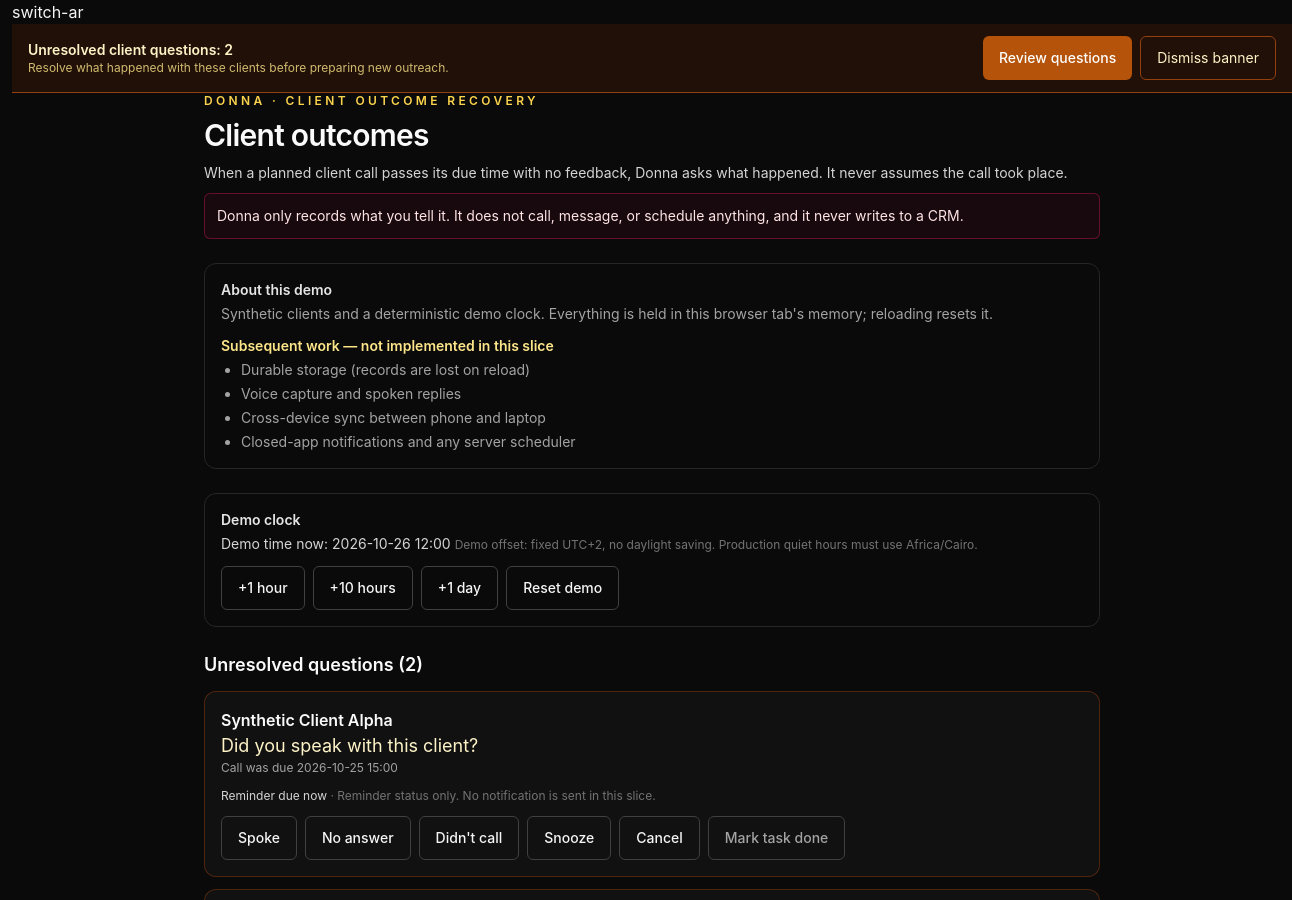
Test case: Donna inbox (English) › offers no appointment option when the client was not reached
Click the button "No answer" at (358,838), box [305,816,411,860]
(page scrolled)
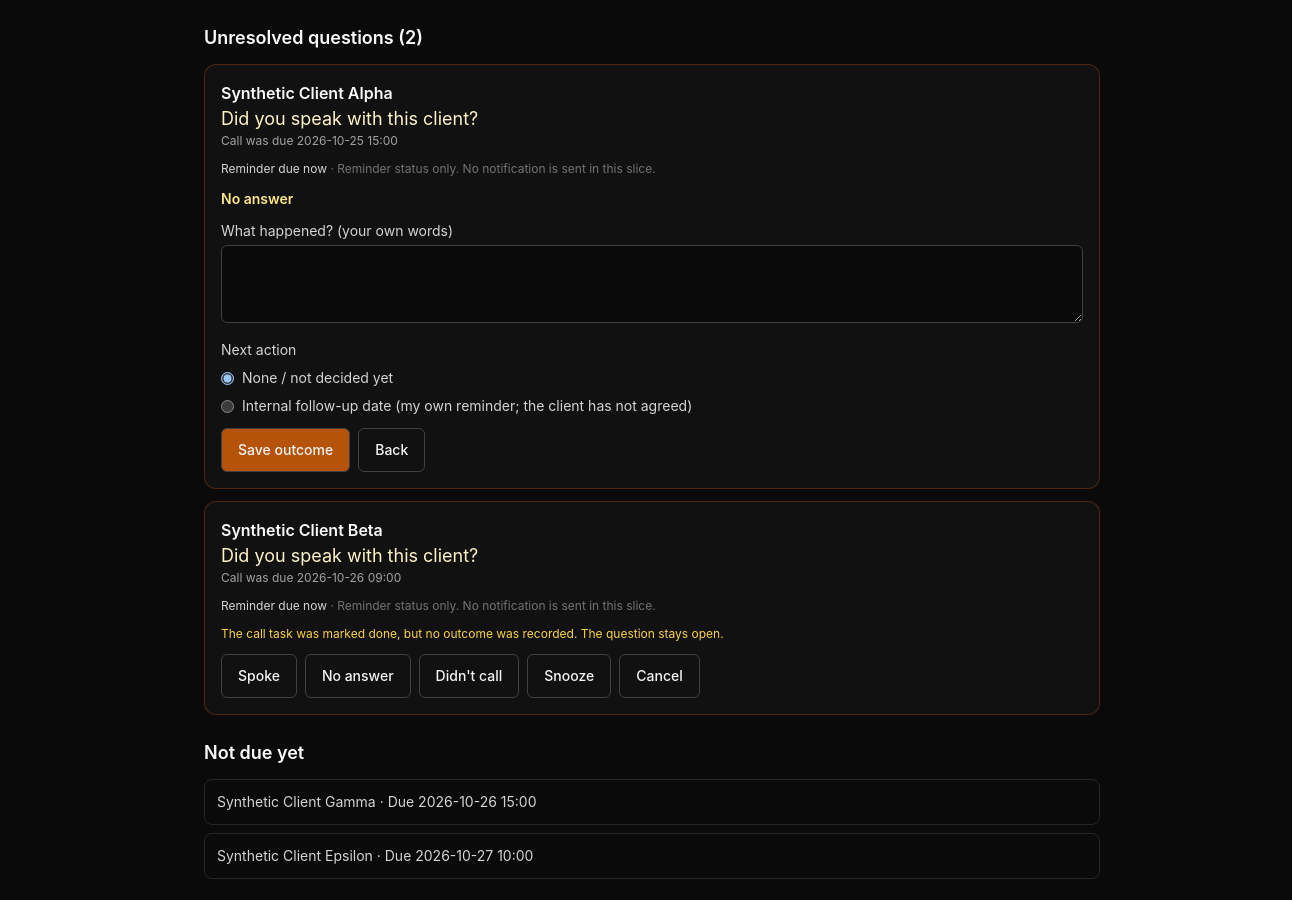
Click the button "Save outcome" at (286,450), box [221,428,350,472]
(page scrolled)
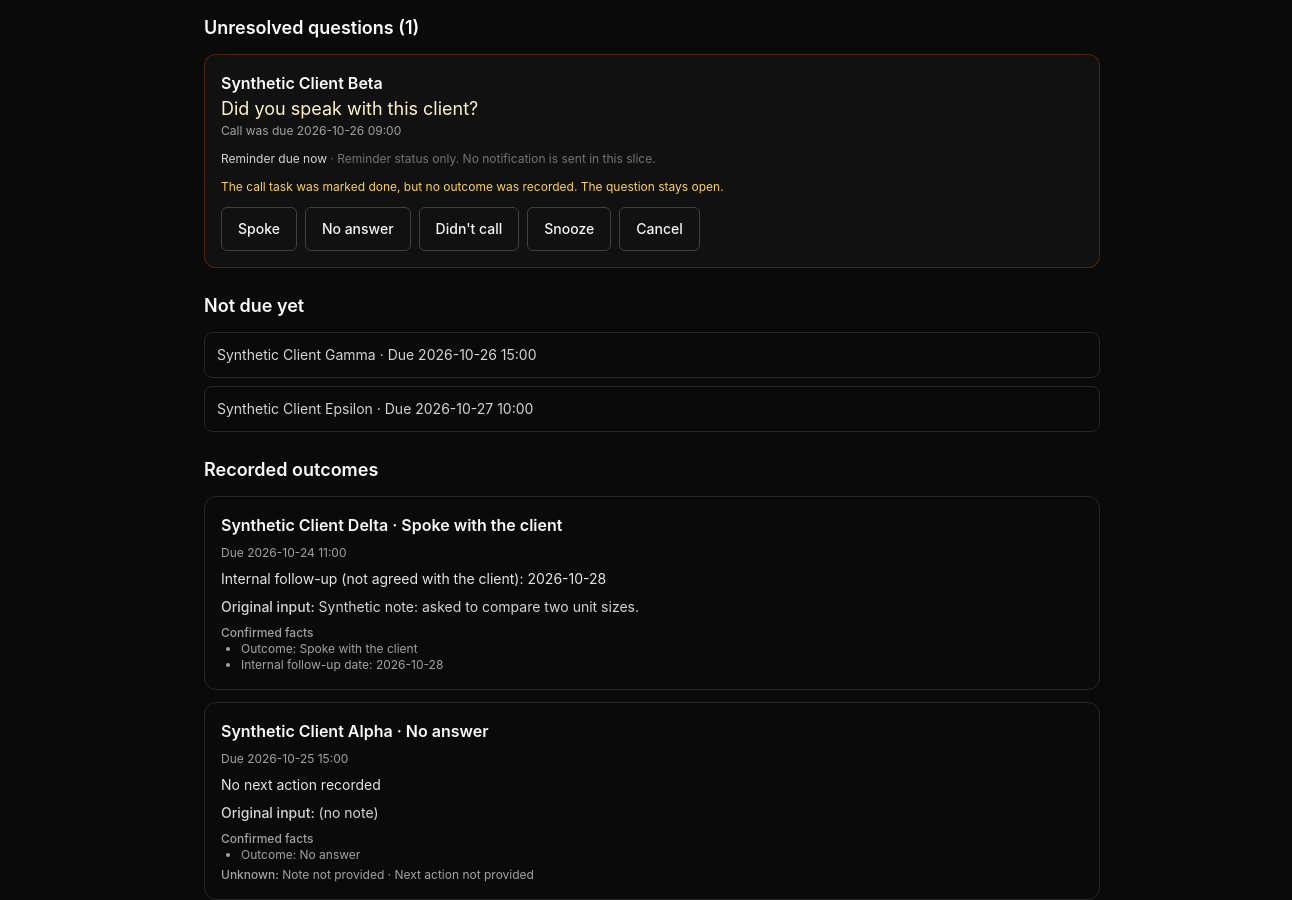
Now the element with test id "donna-record-call-alpha" shows "No answer", box [406,721,488,741]
Now the element with test id "donna-record-call-alpha" shows "Note not provided", box [282,867,534,882]
Now the element with test id "donna-record-call-alpha" shows "Next action not provided", box [282,867,534,882]
